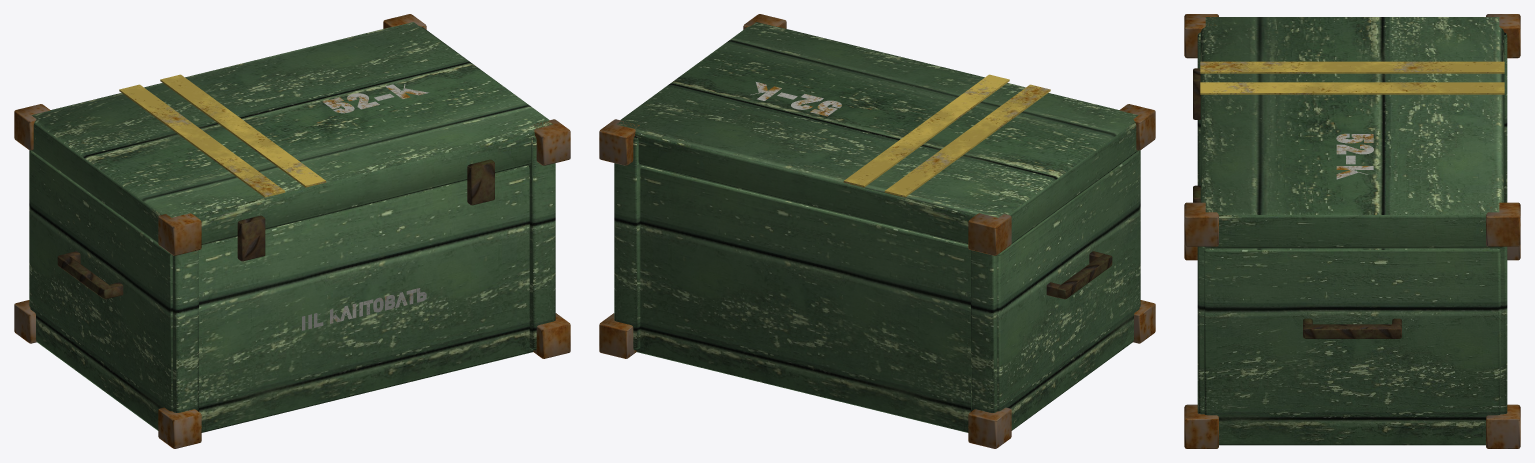
The model's file is loot_crate_army.glb.
3 renders of one model, left to right at view 1: azimuth 30°, elevation 25°; view 2: azimuth 150°, elevation 25°; view 3: azimuth 270°, elevation 25°, orthographic. The views are drawn at different scales.
Parts seen in each view (by area): view 1: box, box.001, box.003, box.002, box.020, box.021, box.005, box.004, box.009, box.008, stencil, box.018 (+5 smaller); view 2: box, box.001, box.003, box.002, box.020, box.021, box.007, box.006, box.011, box.010, box.012, stencil.001 (+2 smaller); view 3: box.001, box, box.020, box.021, box.003, box.015, box.011, box.009, box.008, box.010, box.002, stencil.001 (+3 smaller).
Part boxes in pixels (bbox=[...]): box: bbox=[30, 151, 533, 432]; box.001: bbox=[30, 22, 552, 244]; box.003: bbox=[528, 136, 555, 350]; box.002: bbox=[29, 150, 198, 412]; box.020: bbox=[119, 84, 285, 197]; box.021: bbox=[160, 74, 326, 187]; box.005: bbox=[158, 213, 201, 255]; box.004: bbox=[158, 407, 201, 448]; box.009: bbox=[531, 119, 570, 165]; box.008: bbox=[533, 313, 570, 358]; stencil: bbox=[302, 288, 426, 330]; box.018: bbox=[237, 215, 265, 261]; box: bbox=[636, 151, 1139, 432]; box.001: bbox=[616, 22, 1139, 244]; box.003: bbox=[614, 136, 641, 350]; box.002: bbox=[971, 150, 1140, 412]; box.020: bbox=[884, 84, 1050, 197]; box.021: bbox=[843, 74, 1009, 187]; box.007: bbox=[968, 213, 1011, 255]; box.006: bbox=[968, 407, 1011, 448]; box.011: bbox=[599, 119, 639, 165]; box.010: bbox=[599, 313, 636, 358]; box.012: bbox=[1057, 254, 1112, 299]; stencil.001: bbox=[750, 82, 841, 116]; box.001: bbox=[1200, 17, 1504, 248]; box: bbox=[1204, 248, 1500, 445]; box.020: bbox=[1200, 61, 1504, 73]; box.021: bbox=[1200, 82, 1504, 94]; box.003: bbox=[1197, 246, 1507, 414]; box.015: bbox=[1303, 324, 1401, 338]; box.011: bbox=[1486, 202, 1520, 246]; box.009: bbox=[1184, 202, 1218, 246]; box.008: bbox=[1184, 404, 1218, 448]; box.010: bbox=[1486, 404, 1520, 448]; box.002: bbox=[1197, 32, 1507, 202]; stencil.001: bbox=[1336, 133, 1373, 179].
Size of the model in its own units: 1.03 by 0.524 by 0.678.
Materials: 5 (5 with a texture image).
